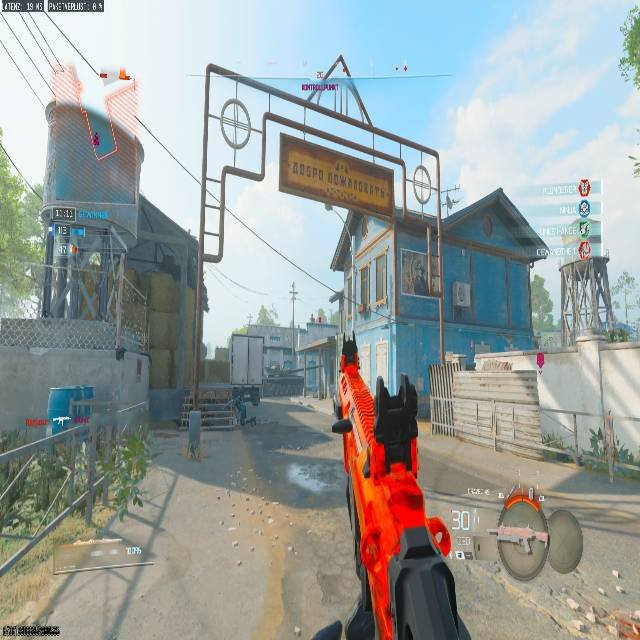player: (336, 348, 372, 434)
